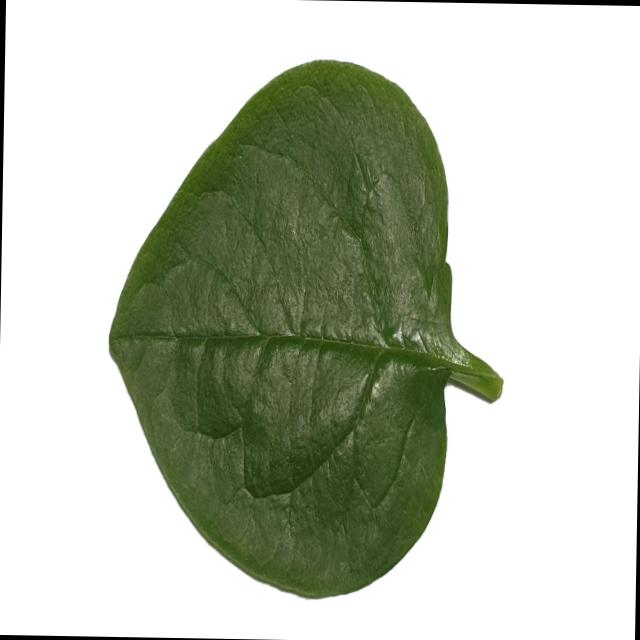Medicinal-Basale: (102, 50, 510, 604)
